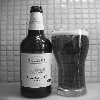beer: (50, 28, 92, 100)
